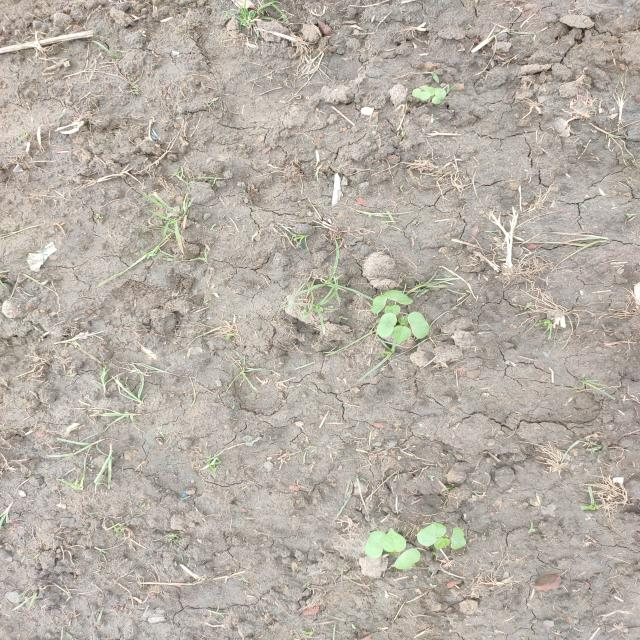seedling_s4: (417, 523, 446, 546), (381, 527, 406, 553), (394, 548, 421, 570), (408, 312, 429, 339), (365, 531, 386, 558), (377, 313, 397, 338), (385, 290, 413, 305), (391, 325, 411, 344), (450, 527, 467, 549), (371, 295, 387, 314), (412, 88, 431, 100), (432, 89, 446, 105), (434, 537, 450, 550), (419, 85, 435, 96), (385, 305, 400, 316), (398, 314, 408, 325)
